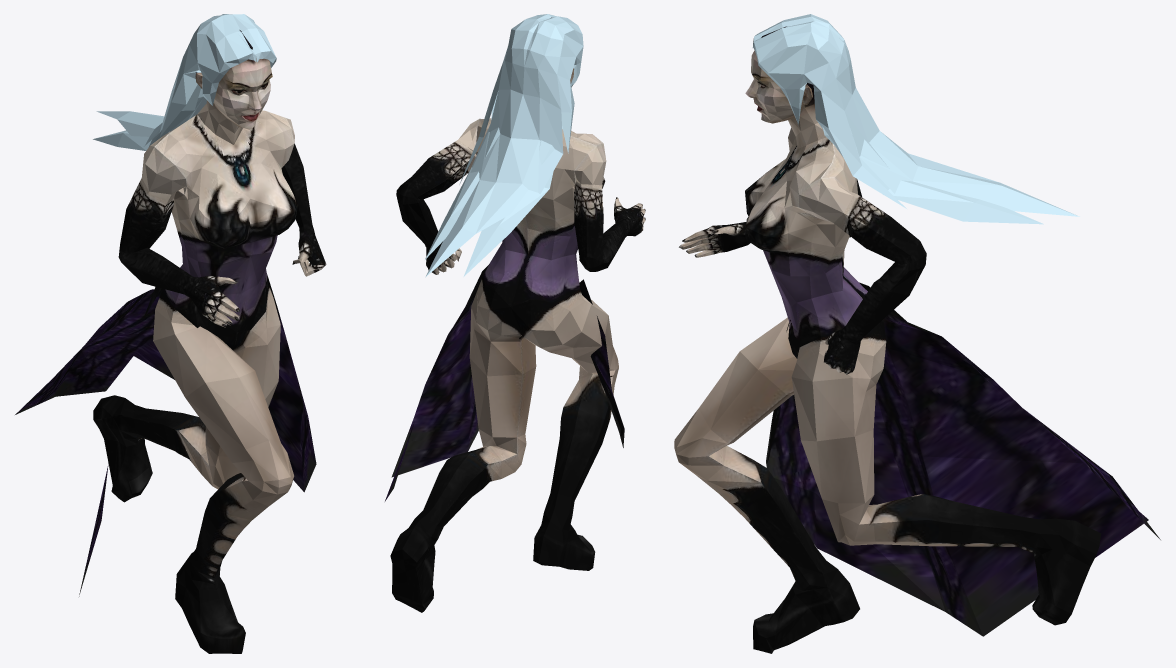
Rendered from running_016.obj.
The picture shows the model from 3 angles, left to right: view 1: azimuth 30°, elevation 25°; view 2: azimuth 150°, elevation 25°; view 3: azimuth 270°, elevation 25°; orthographic projection. The views are drawn at different scales.
Visible parts, largest first — view 1: Plane.001_Plane.007, Plane.003_Plane.008, capelli.001_Plane.006; view 2: Plane.001_Plane.007, capelli.001_Plane.006, Plane.003_Plane.008; view 3: Plane.001_Plane.007, Plane.003_Plane.008, capelli.001_Plane.006.
Part boxes in pixels (box(x1,y1,x2,y2)): Plane.001_Plane.007: box(93, 30, 326, 653); Plane.003_Plane.008: box(15, 274, 316, 596); capelli.001_Plane.006: box(93, 14, 276, 150); Plane.001_Plane.007: box(390, 17, 645, 612); capelli.001_Plane.006: box(425, 14, 583, 277); Plane.003_Plane.008: box(385, 264, 624, 501); Plane.001_Plane.007: box(674, 26, 1101, 653); Plane.003_Plane.008: box(766, 282, 1160, 636); capelli.001_Plane.006: box(752, 14, 1079, 224).
Size of the model in its own units: 1.71 by 5.04 by 3.42.
